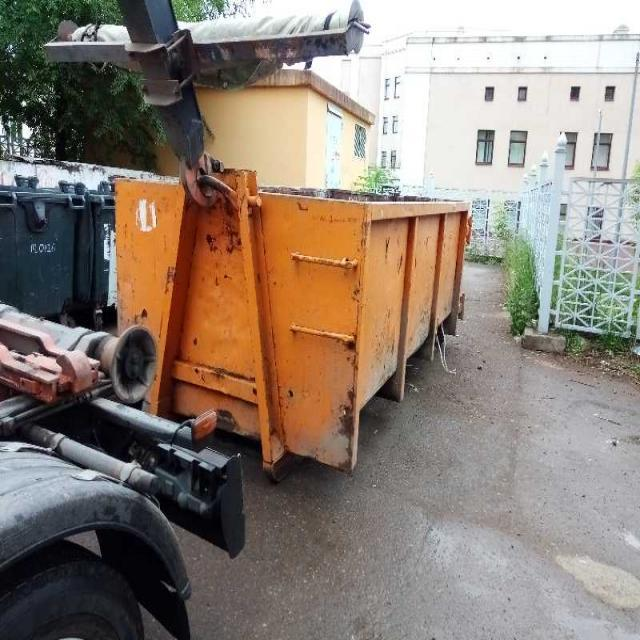Dumpster: (113, 181, 471, 474), (1, 188, 111, 323)
